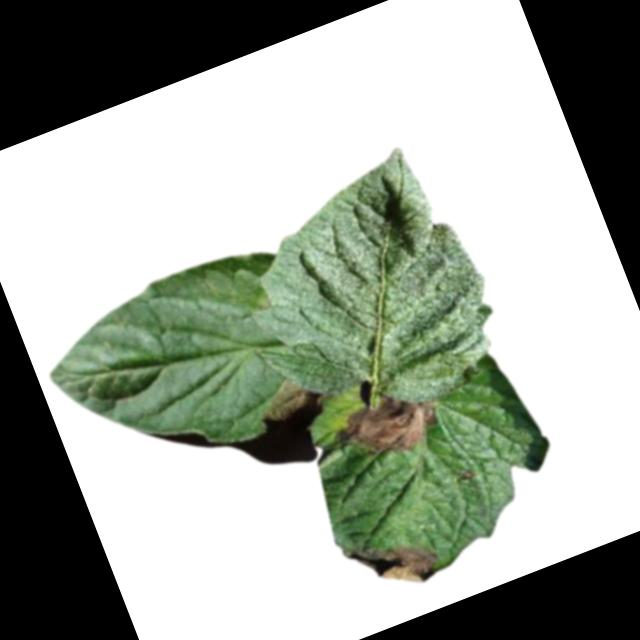Late_blight: (324, 374, 450, 476), (342, 520, 443, 605), (251, 366, 330, 427), (457, 464, 479, 483)
healthy: (206, 132, 522, 452)
